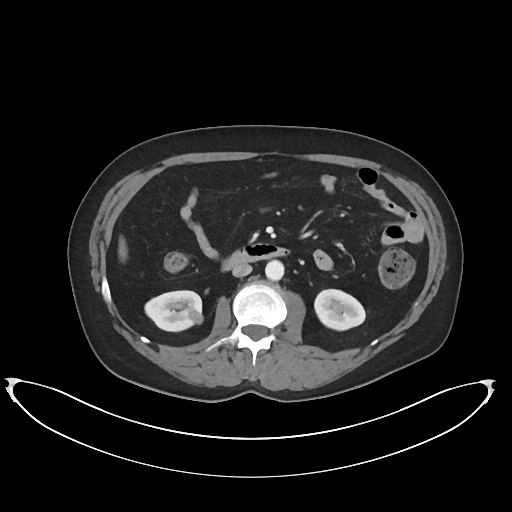Lesion: (184, 304, 207, 328)
